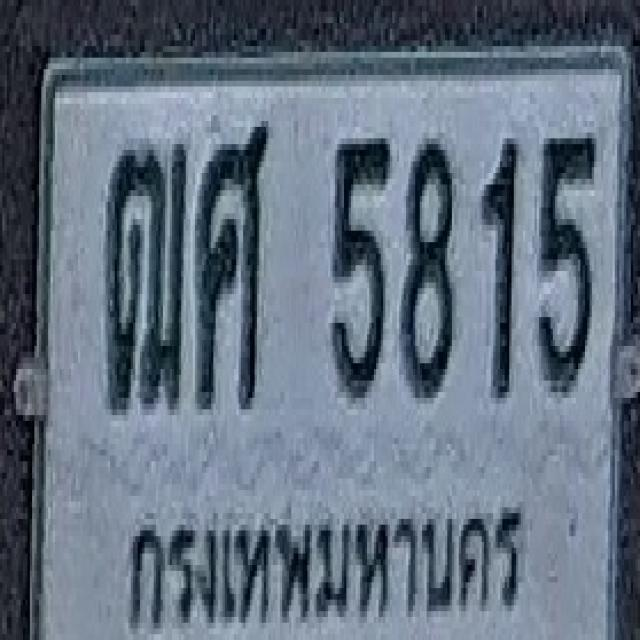1: (481, 130, 517, 395)
5: (330, 130, 390, 395), (537, 130, 596, 389)
8: (402, 133, 454, 392)
A18: (107, 138, 187, 410)
A38: (196, 118, 267, 407)
BKK: (120, 466, 530, 640)
